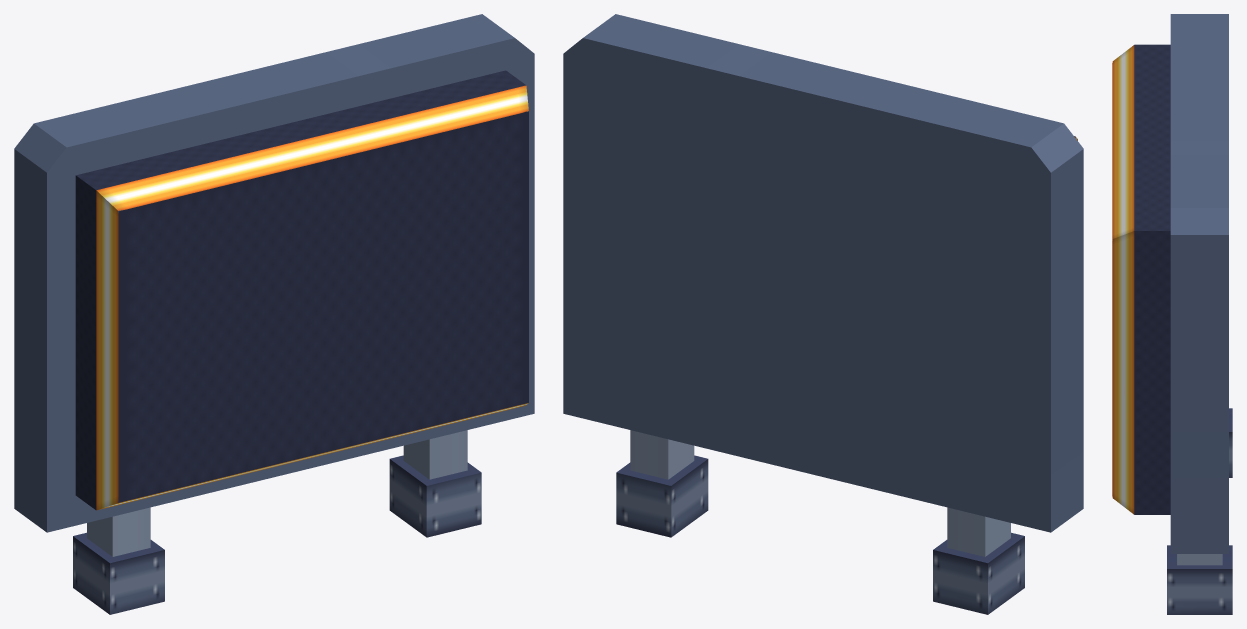
Rendered from Letreiro pequeno.v1.fbx.
3 views of the same model, side by side, from view 1: azimuth 30°, elevation 25°; view 2: azimuth 150°, elevation 25°; view 3: azimuth 270°, elevation 25° (orthographic). The views are drawn at different scales.
Parts seen in each view (by area): view 1: Letreiro pequeno; view 2: Letreiro pequeno; view 3: Letreiro pequeno.
Boxes of the visible parts, x1,y1,x2,y2 form: Letreiro pequeno: (14,14,534,614); Letreiro pequeno: (563,14,1083,614); Letreiro pequeno: (1112,14,1232,614).
Size of the model in its own units: 209 by 50.49 by 195.
